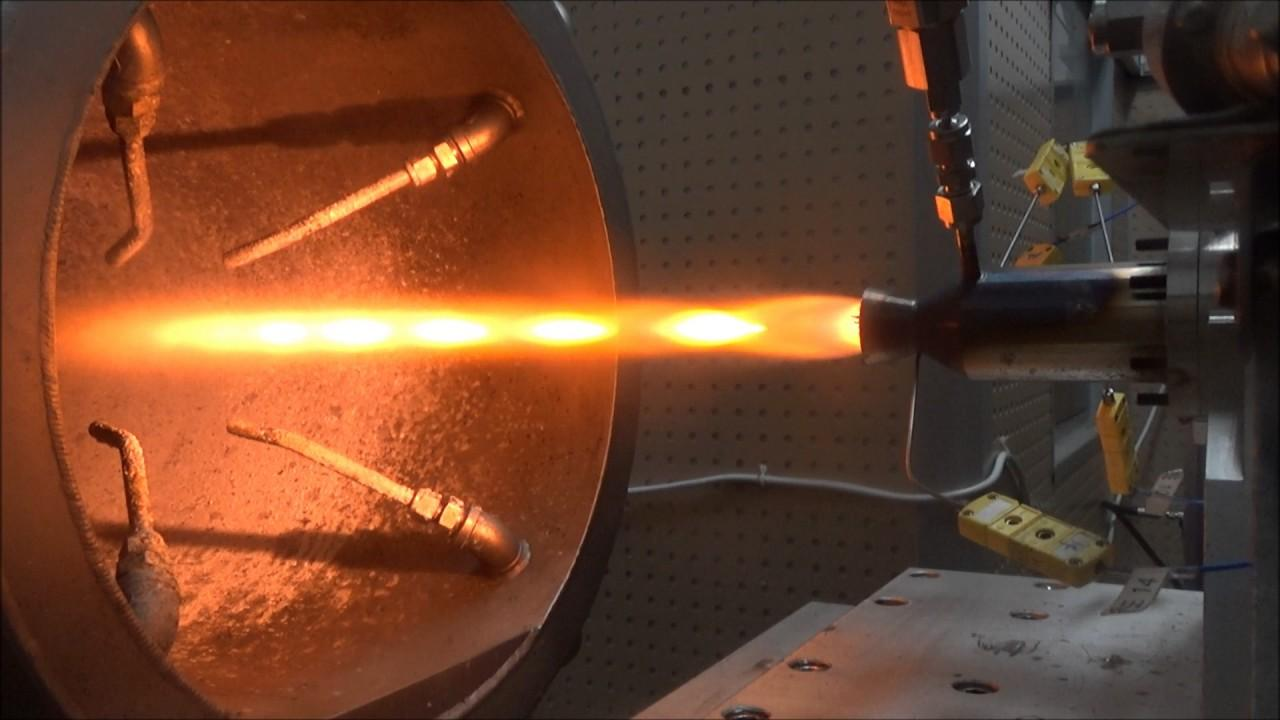thruster: (854, 290, 923, 366)
